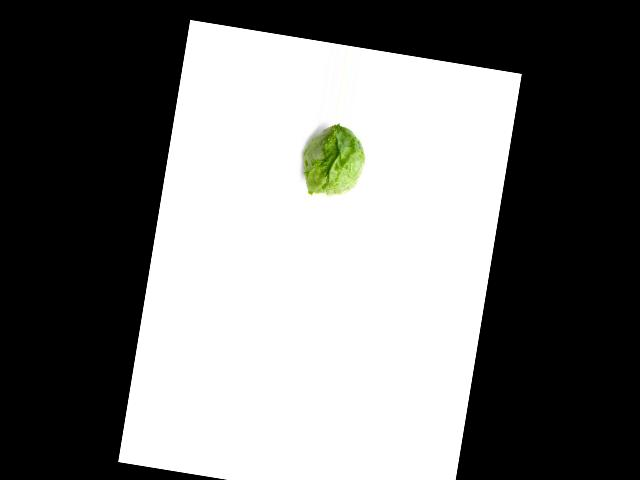lettuce: (293, 119, 374, 202)
